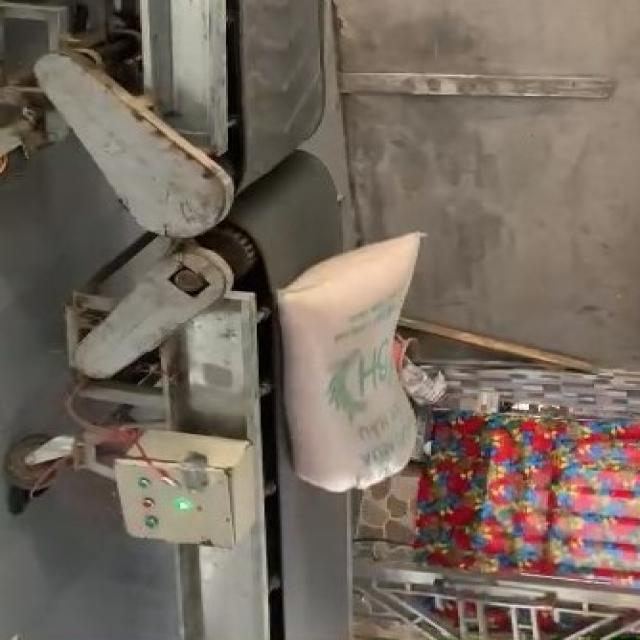gunny_bag: (278, 233, 423, 493)
